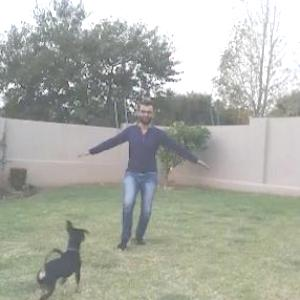land: (74, 69, 227, 274)
